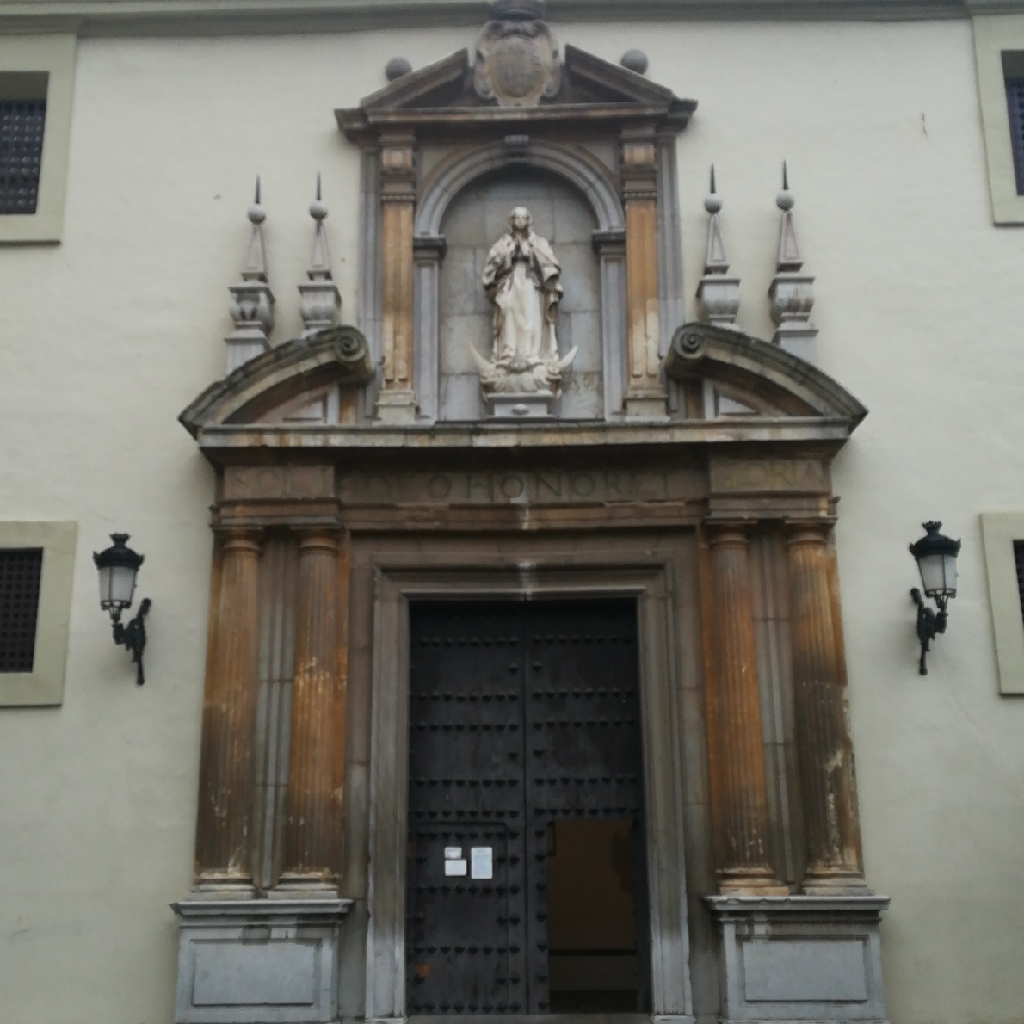arco-medio-punto: (421, 148, 618, 257)
fronton-partido: (173, 319, 848, 459), (338, 42, 681, 129)
vano-adintelado: (343, 526, 685, 1024)
